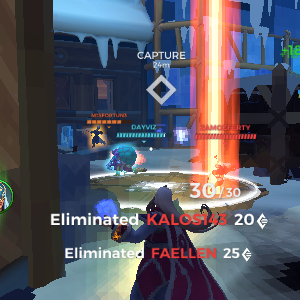model: (86, 126, 108, 149)
